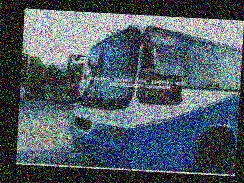bus: (63, 15, 244, 174)
